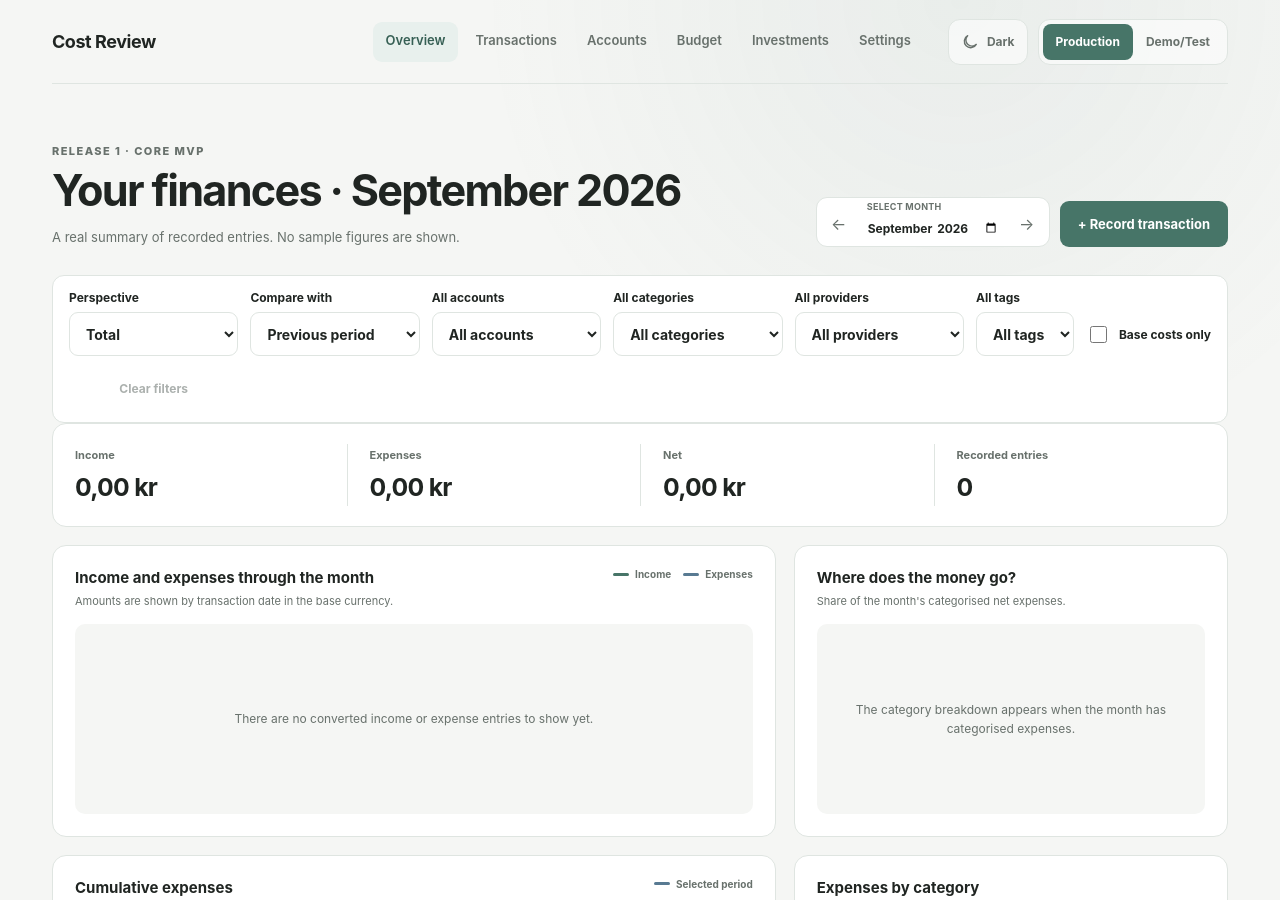
Test: App › switches to the isolated Demo/Test context with a persistent warning
Expected: the heading "Your finances · September 2026" is shown, [52,167,681,214]
Click the button "Demo/Test": (1178, 42) [1133,24,1223,60]
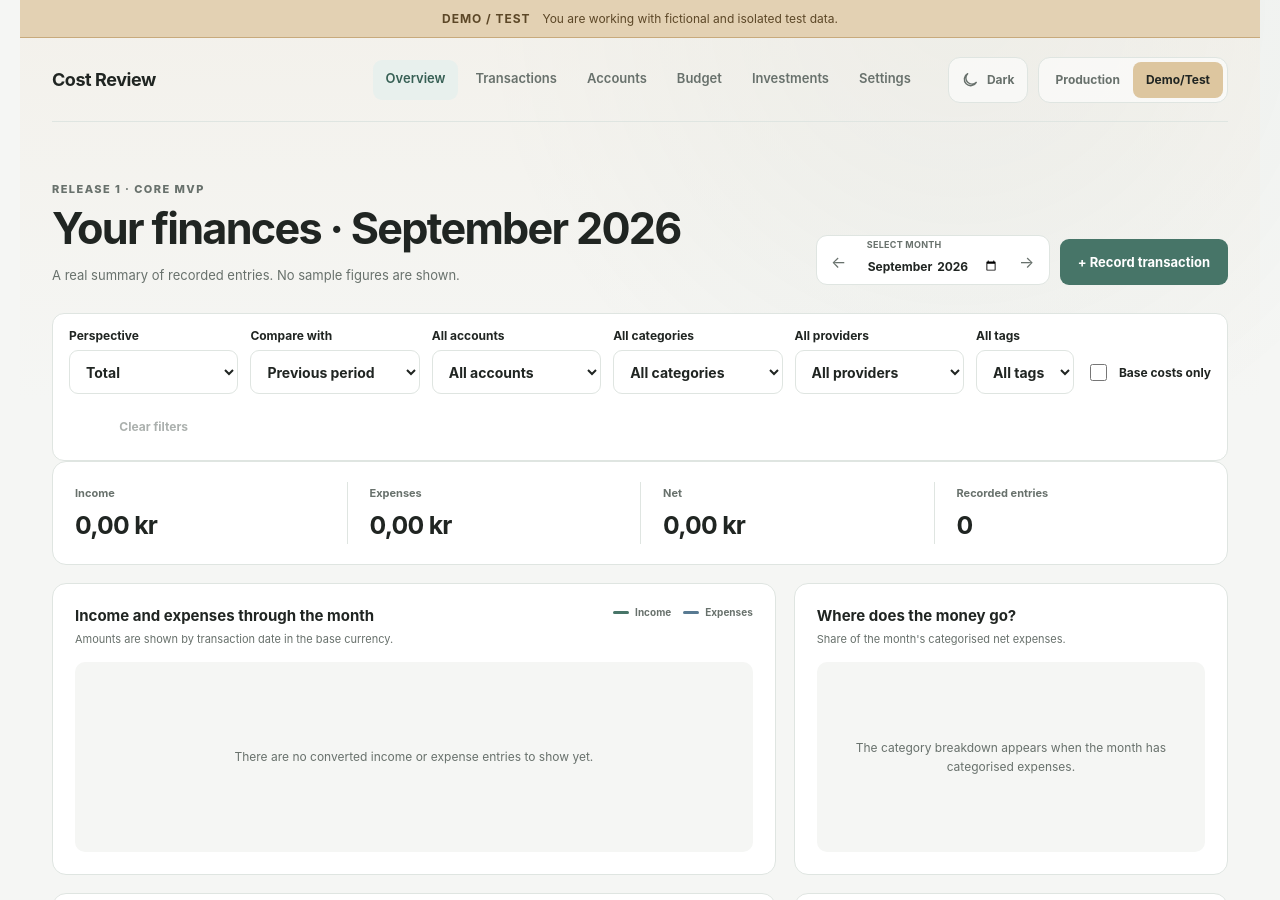
Expected: the text "You are working with fictional and isolated test data." is shown, [542,11,838,26]
Expected: the text "DEMO / TEST" is shown, [442,11,530,26]
